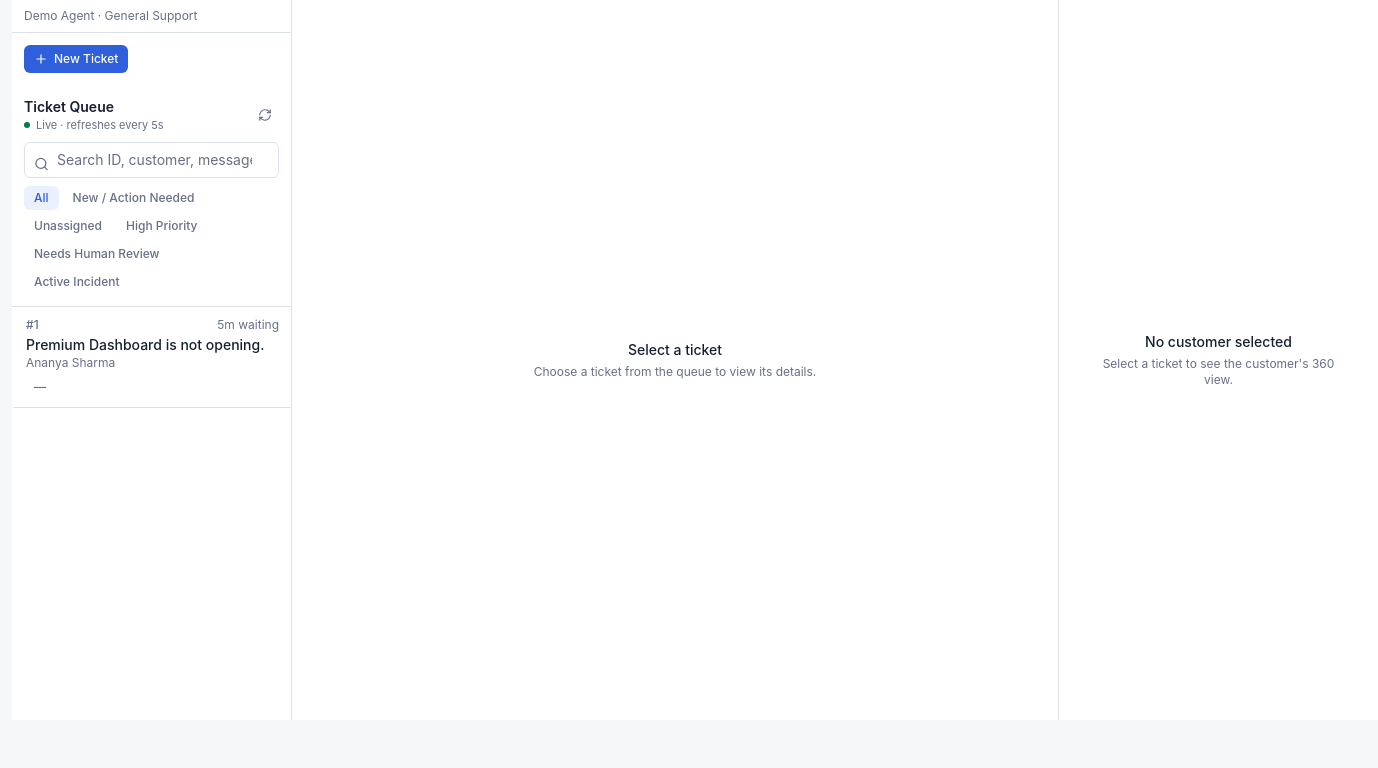
Test: WorkspacePage › loads and displays the ticket queue and, once a ticket is selected, the customer 360 view
Click the text "Premium Dashboard is not opening." at x=152, y=344, box [26, 334, 279, 354]
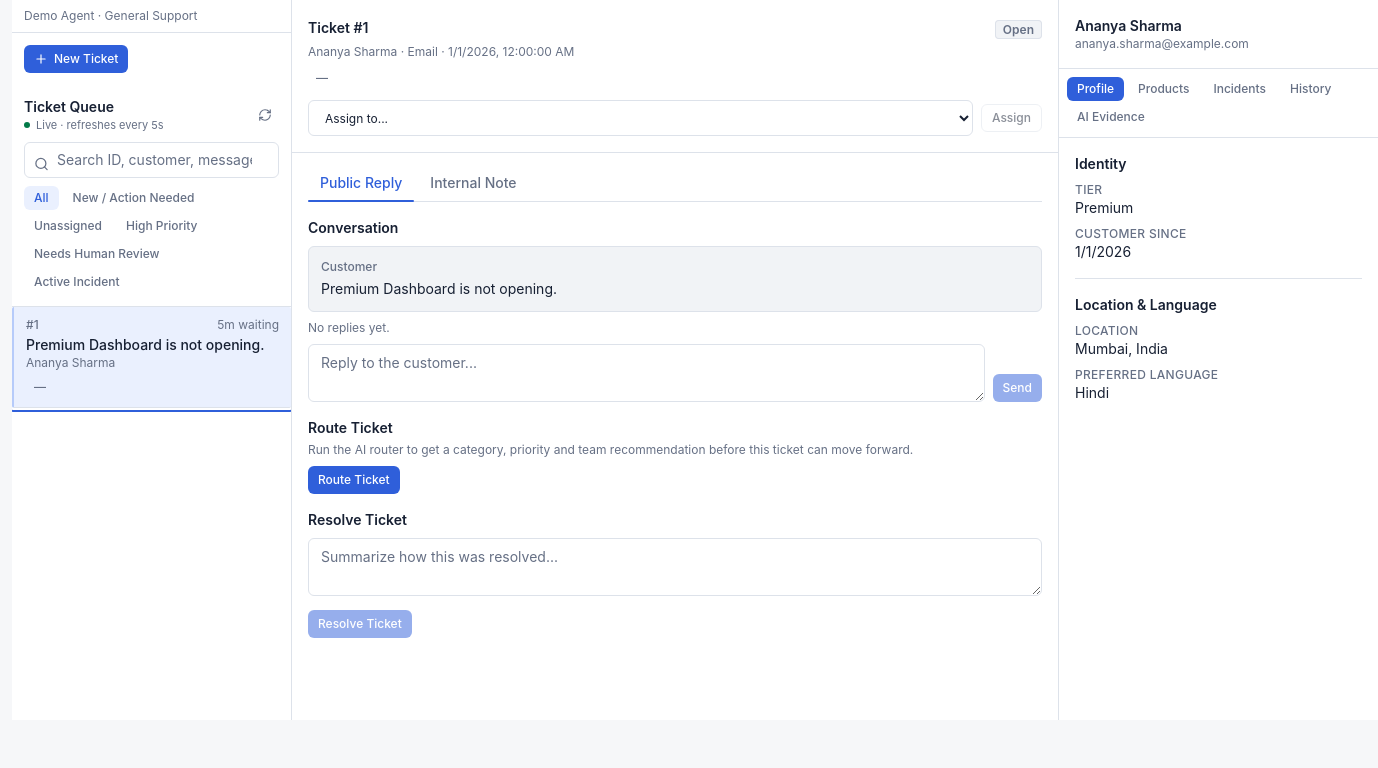
Result: the heading "Ananya Sharma" is shown at [1075, 17, 1182, 34]
